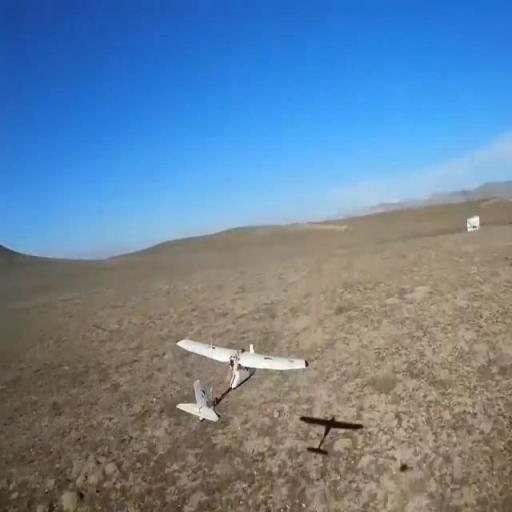uav: (176, 335, 309, 423)
